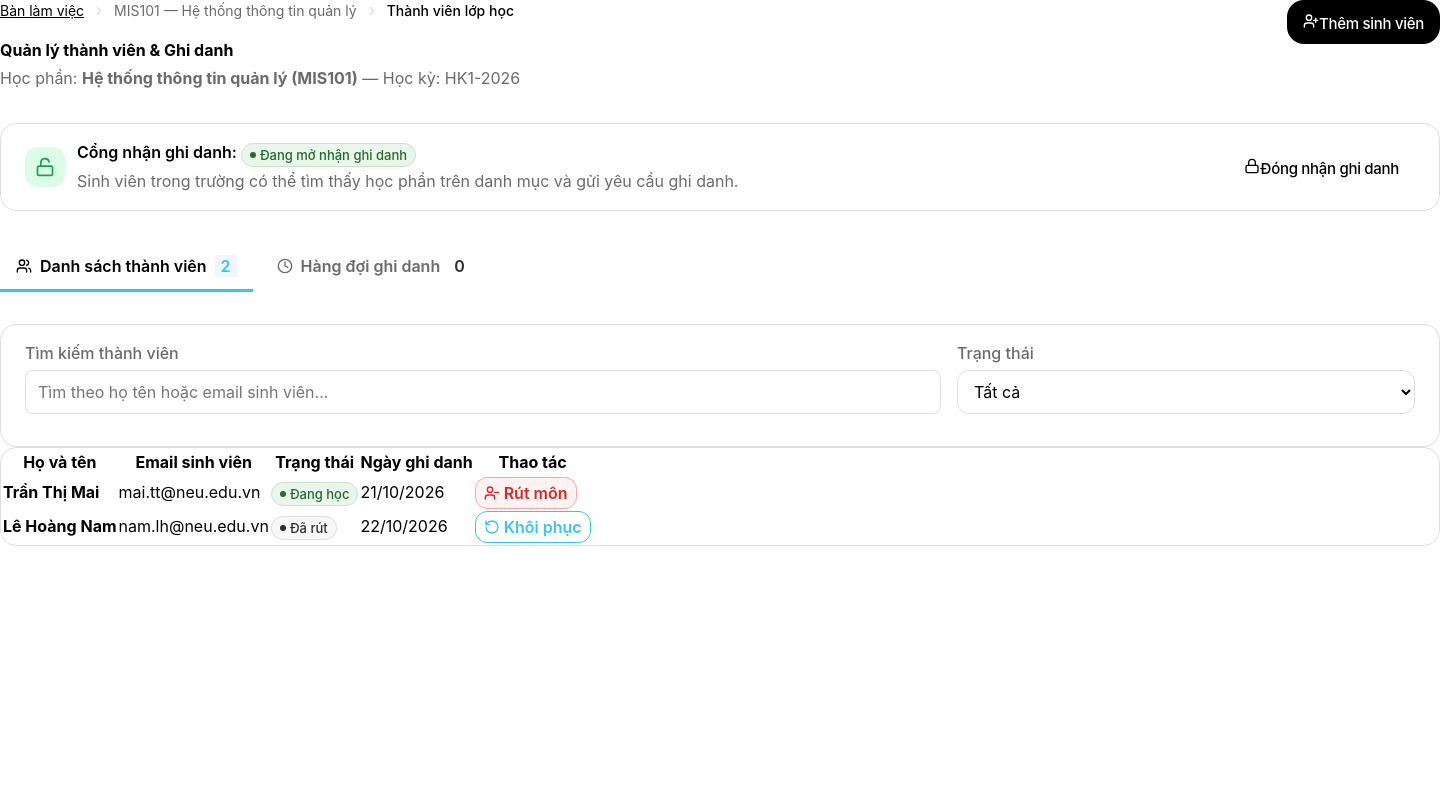
it: B07-06 Teacher Course Members & Enrollment Requests UI › 4. Thêm sinh viên thất bại khi email không tồn tại hiển thị lỗi chính xác
Click the button "Thêm sinh viên".
click(1364, 22)  # box [1287,0,1439,44]
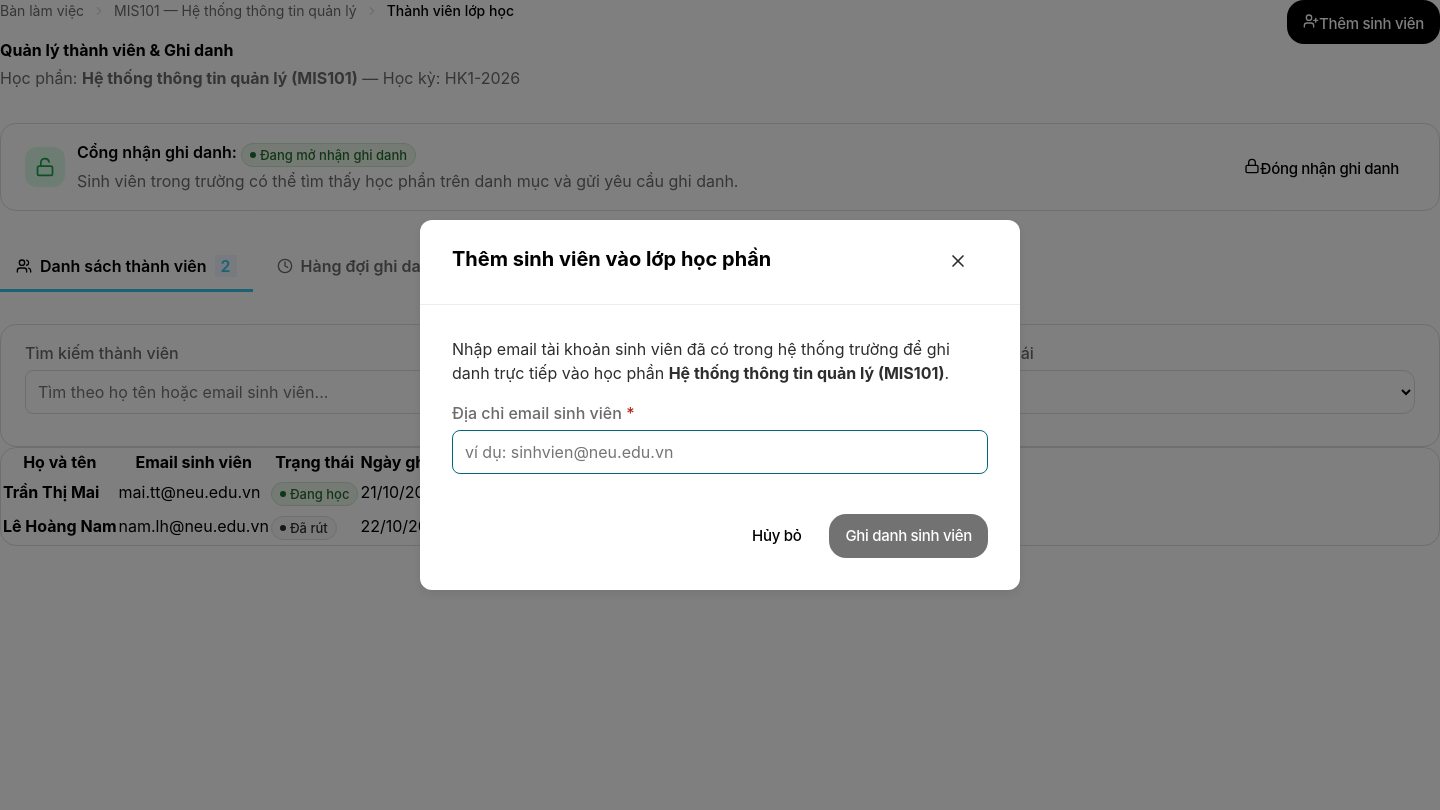
Type "khongtontai@neu.edu.vn" into the field labelled "Địa chỉ email sinh viên *".
click(720, 452); type("khongtontai@neu.edu.vn")  # box [452,430,988,474]
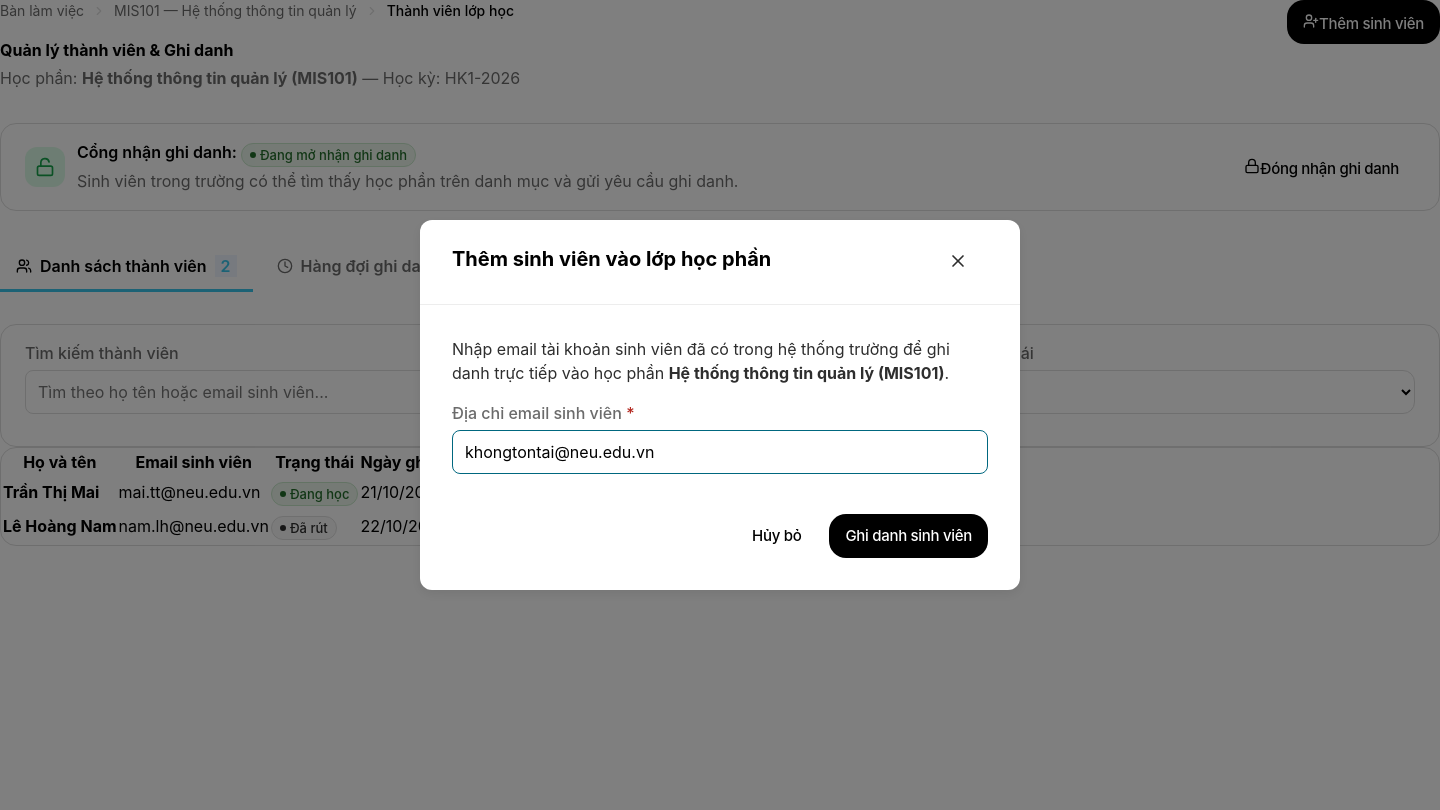
Click the button "Ghi danh sinh viên".
click(909, 536)  # box [829,514,988,558]
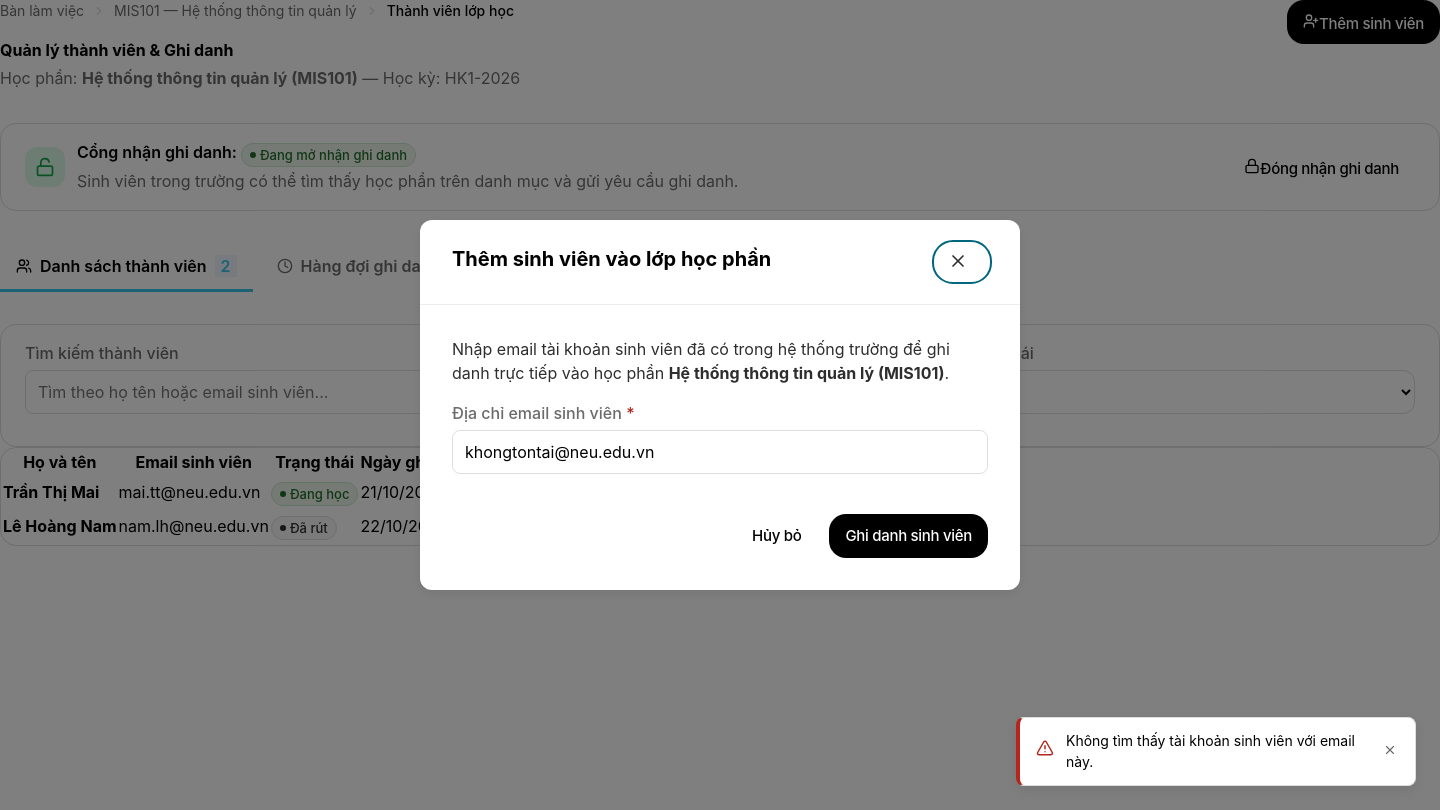
Expected: the text "Không tìm thấy tài khoản sinh viên với email này." is shown, [1066,730,1369,773]
